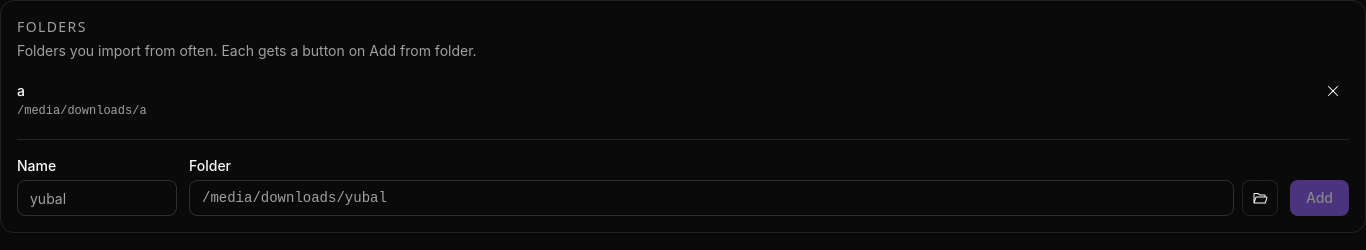
Test: FolderSourcesPanel: focus after a remove › else the Add row's Name
Expected: the list item is shown, [17,73,1349,127]
Click the button named "Remove a from Sources". click: (1333, 91)
box: [1317,75,1349,107]
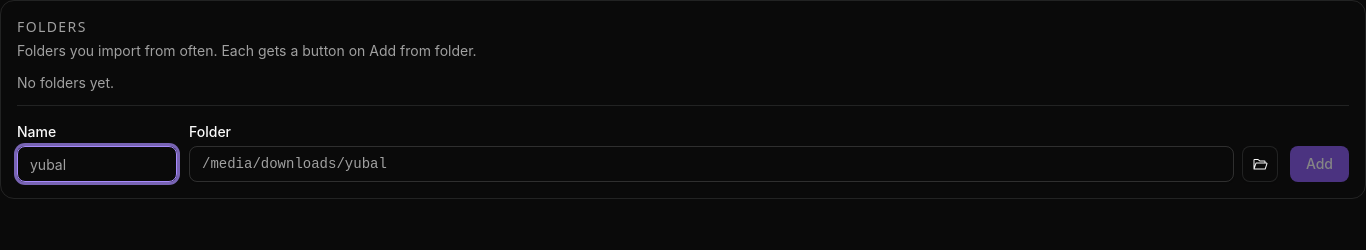
Now the text "No folders yet." is shown, box [17,74,114,91]
